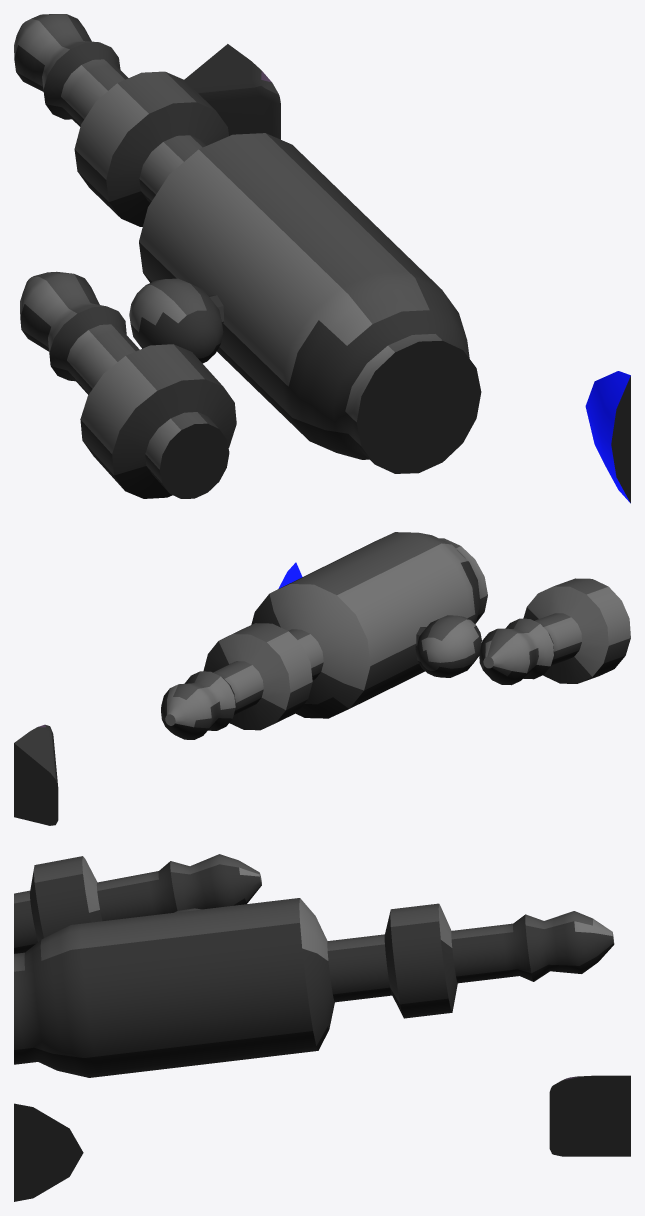
File: camanis_boss_39.glb
3 views of the same model, one above another, from view 1: azimuth 30°, elevation 25°; view 2: azimuth 150°, elevation 25°; view 3: azimuth 270°, elevation 25° (orthographic). The views are drawn at different scales.
Parts seen in each view (by area): view 1: camanis_boss_39; view 2: camanis_boss_39; view 3: camanis_boss_39.
Boxes of the visible parts, x1,y1,x2,y2 form: camanis_boss_39: (14,14,630,503); camanis_boss_39: (14,532,630,825); camanis_boss_39: (14,854,630,1201).
Bounding box in the file's own units: 20 × 10.9 × 28.
